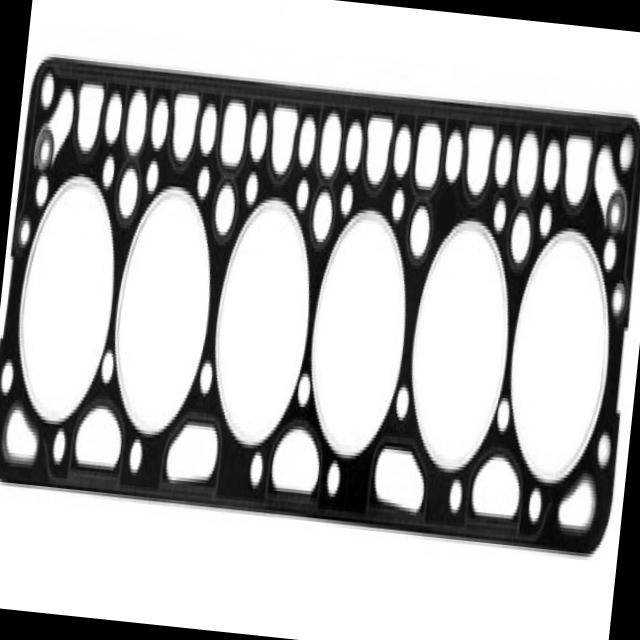missing hole: (433, 188, 462, 258)
